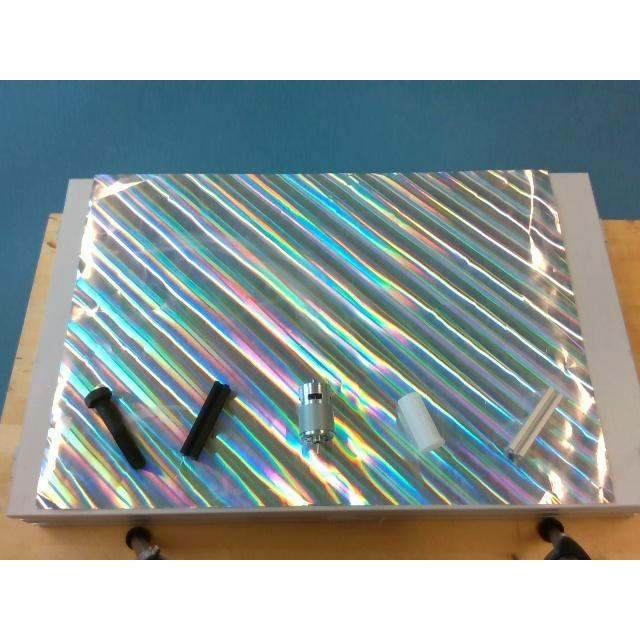F20_20_B: (180, 381, 236, 459)
F20_20_G: (506, 388, 562, 457)
M20_100: (84, 386, 144, 468)
Motor2: (297, 377, 333, 453)
Spacer: (396, 392, 444, 452)
